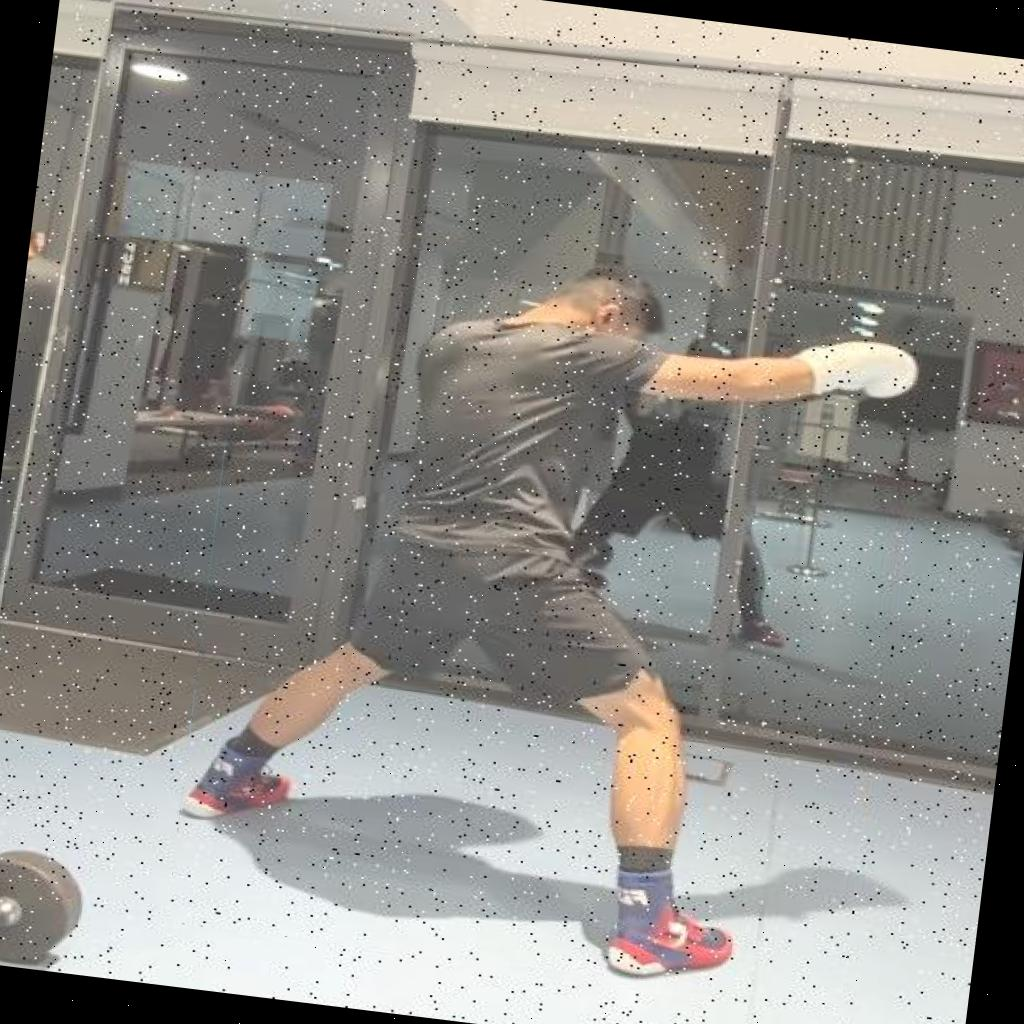jab: (166, 216, 927, 1005)
